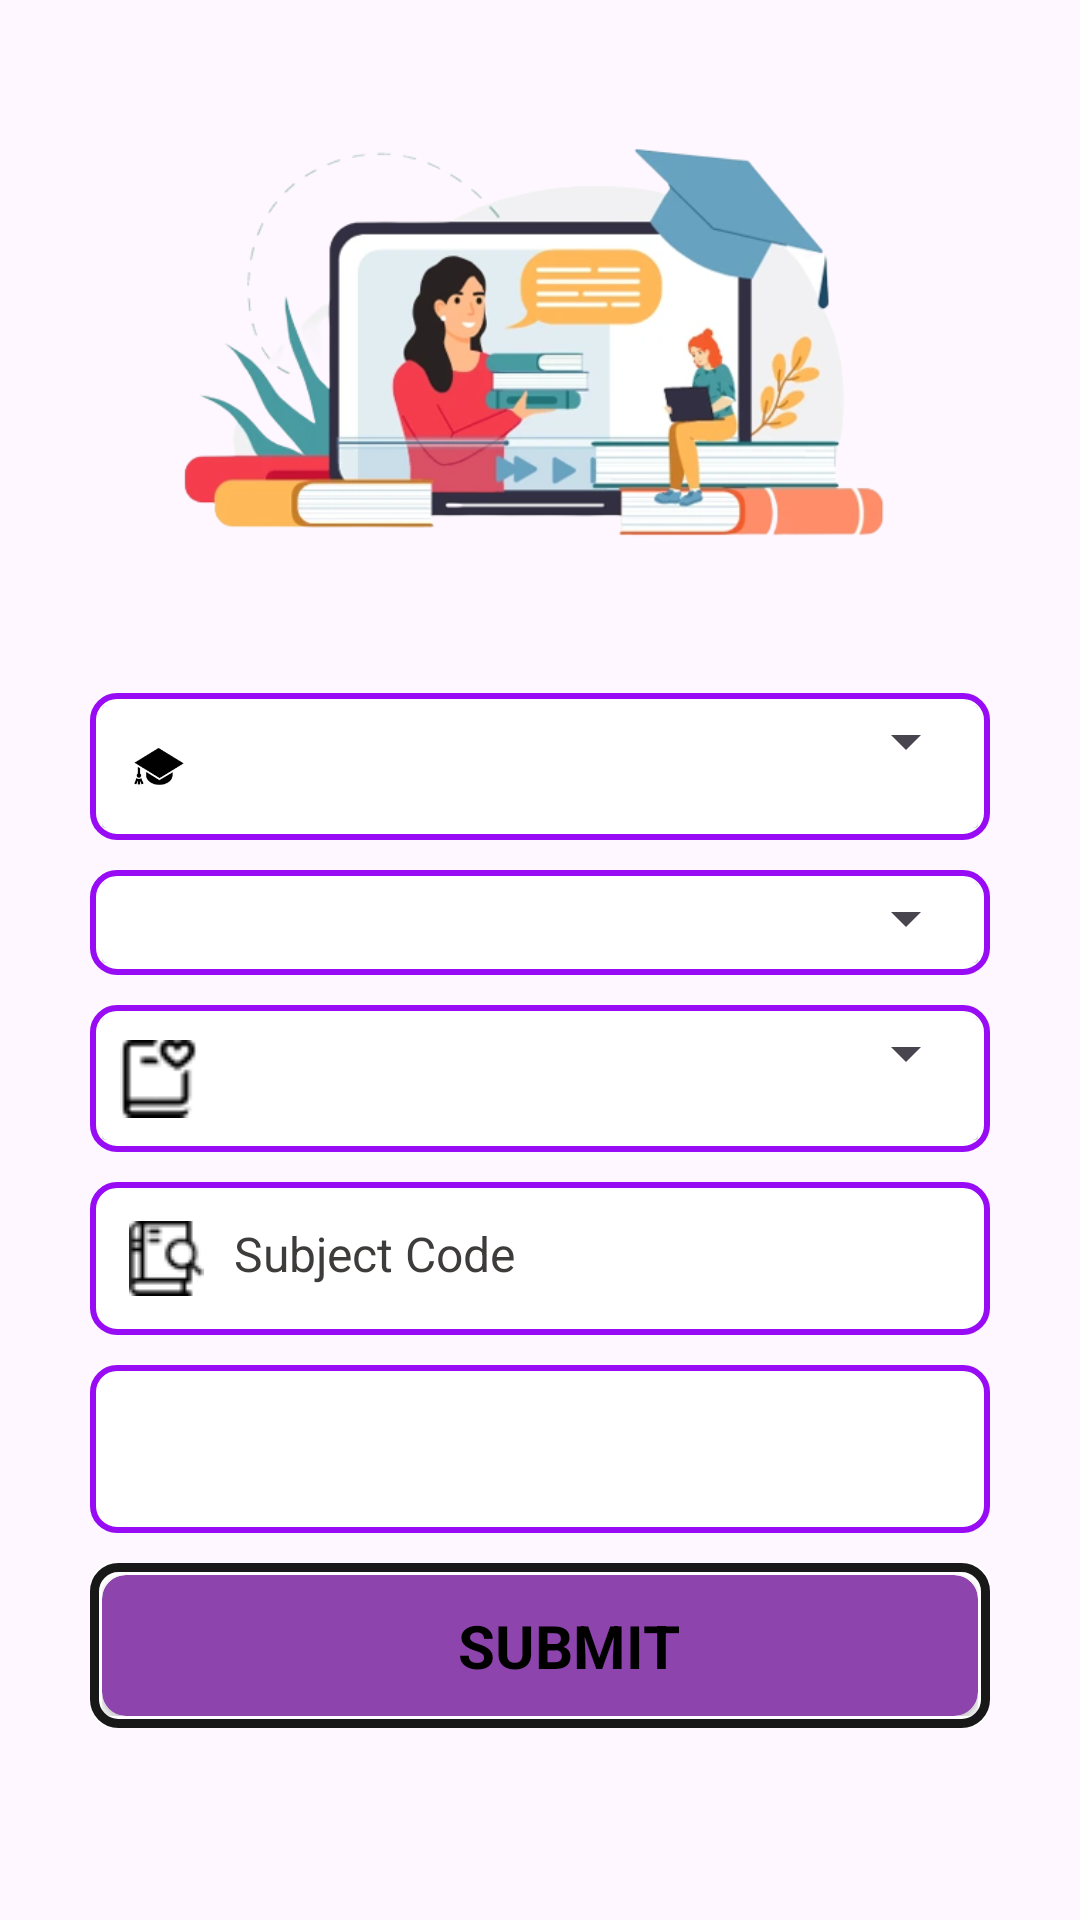

Icon click points for this 1080*1920 phone screenshot, format point (x, y):
coursemaster: point (159, 766)
